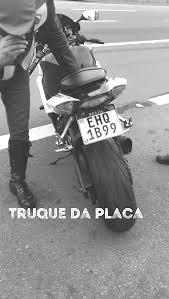placa_mercosul: (76, 104, 123, 145)
